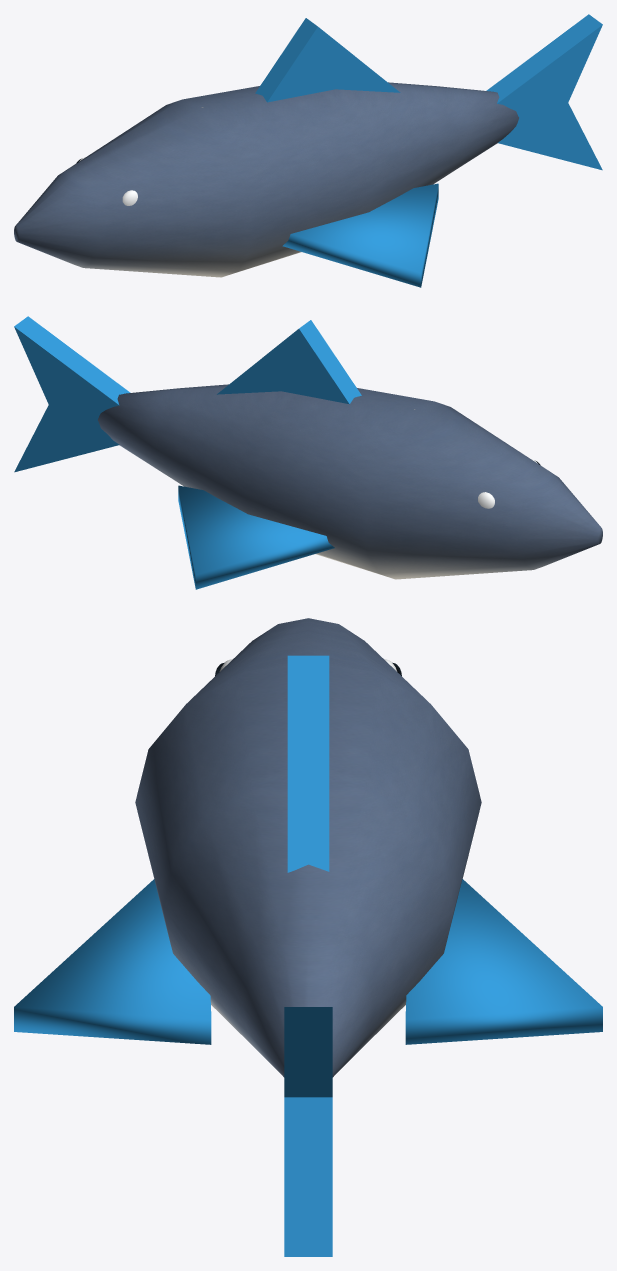
Rendered from reef_shark-BeiZWyAf.glb.
3 views of the same model, one above another, from view 1: azimuth 30°, elevation 25°; view 2: azimuth 150°, elevation 25°; view 3: azimuth 270°, elevation 25° (orthographic). The views are drawn at different scales.
Visible parts, largest first — view 1: reef_shark_Body, reef_shark_Tail, reef_shark_Fin, reef_shark_Dorsal; view 2: reef_shark_Body, reef_shark_Tail, reef_shark_Fin.001, reef_shark_Dorsal; view 3: reef_shark_Body, reef_shark_Fin.001, reef_shark_Fin, reef_shark_Tail, reef_shark_Dorsal.
Part boxes in pixels (<box>): reef_shark_Body: <box>14,82,518,277</box>; reef_shark_Tail: <box>486,14,602,170</box>; reef_shark_Fin: <box>282,183,438,287</box>; reef_shark_Dorsal: <box>255,18,400,102</box>; reef_shark_Body: <box>98,384,602,579</box>; reef_shark_Tail: <box>14,316,130,472</box>; reef_shark_Fin.001: <box>178,485,334,589</box>; reef_shark_Dorsal: <box>217,320,361,404</box>; reef_shark_Body: <box>135,618,481,1077</box>; reef_shark_Fin.001: <box>405,879,602,1044</box>; reef_shark_Fin: <box>14,879,211,1044</box>; reef_shark_Tail: <box>284,1007,332,1256</box>; reef_shark_Dorsal: <box>287,655,329,872</box>.
Size of the model in its own units: 4.3 by 1.56 by 2.21.
Materials: 4 (1 with a texture image).
